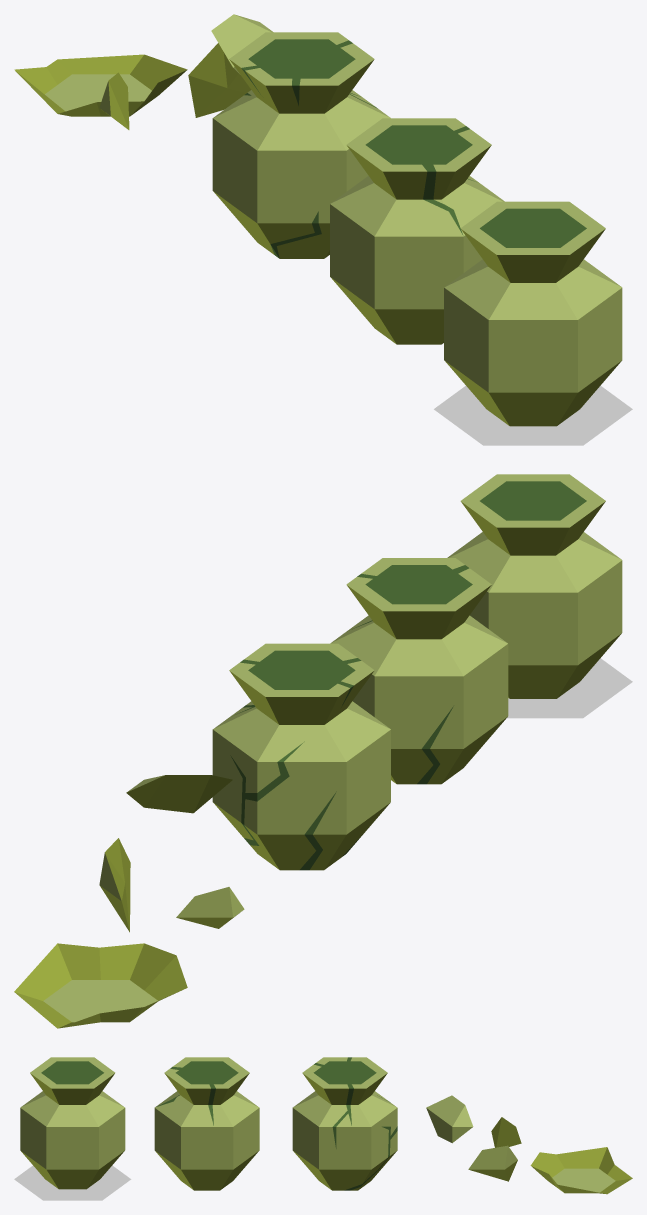
Rendered from pot.fbx.
3 renders of one model, top to bottom at view 1: azimuth 30°, elevation 25°; view 2: azimuth 150°, elevation 25°; view 3: azimuth 270°, elevation 25°, orthographic. The views are drawn at different scales.
Parts seen in each view (by area): view 1: Mesh_Pot01, Mesh_Pot01_Damaged02, Mesh_Pot01_Damaged01, Mesh_Pot01_Damaged03, Mesh_RoundShadow, Mesh_Pot01_DamagedPart03, Mesh_Pot01_DamagedPart02, Mesh_Pot01_DamagedPart01; view 2: Mesh_Pot01_Damaged02, Mesh_Pot01_Damaged01, Mesh_Pot01, Mesh_Pot01_Damaged03, Mesh_RoundShadow, Mesh_Pot01_DamagedPart02, Mesh_Pot01_DamagedPart03, Mesh_Pot01_DamagedPart01; view 3: Mesh_Pot01_Damaged01, Mesh_Pot01_Damaged02, Mesh_Pot01, Mesh_Pot01_Damaged03, Mesh_RoundShadow, Mesh_Pot01_DamagedPart02, Mesh_Pot01_DamagedPart03, Mesh_Pot01_DamagedPart01.
Boxes of the visible parts, x1=… form: Mesh_Pot01: x1=444, y1=201, x2=622, y2=426; Mesh_Pot01_Damaged02: x1=212, y1=32, x2=390, y2=258; Mesh_Pot01_Damaged01: x1=330, y1=118, x2=504, y2=344; Mesh_Pot01_Damaged03: x1=14, y1=54, x2=187, y2=116; Mesh_RoundShadow: x1=434, y1=385, x2=632, y2=445; Mesh_Pot01_DamagedPart03: x1=188, y1=43, x2=251, y2=117; Mesh_Pot01_DamagedPart02: x1=211, y1=14, x2=273, y2=74; Mesh_Pot01_DamagedPart01: x1=99, y1=72, x2=129, y2=129; Mesh_Pot01_Damaged02: x1=212, y1=643, x2=390, y2=870; Mesh_Pot01_Damaged01: x1=330, y1=558, x2=508, y2=784; Mesh_Pot01: x1=447, y1=474, x2=622, y2=698; Mesh_Pot01_Damaged03: x1=14, y1=943, x2=187, y2=1028; Mesh_RoundShadow: x1=507, y1=658, x2=632, y2=718; Mesh_Pot01_DamagedPart02: x1=126, y1=775, x2=232, y2=813; Mesh_Pot01_DamagedPart03: x1=99, y1=838, x2=130, y2=932; Mesh_Pot01_DamagedPart01: x1=176, y1=887, x2=244, y2=928; Mesh_Pot01_Damaged01: x1=154, y1=1057, x2=259, y2=1190; Mesh_Pot01_Damaged02: x1=292, y1=1057, x2=397, y2=1190; Mesh_Pot01: x1=20, y1=1057, x2=125, y2=1189; Mesh_Pot01_Damaged03: x1=530, y1=1147, x2=632, y2=1194; Mesh_RoundShadow: x1=14, y1=1165, x2=131, y2=1200; Mesh_Pot01_DamagedPart02: x1=426, y1=1095, x2=473, y2=1143; Mesh_Pot01_DamagedPart03: x1=468, y1=1145, x2=517, y2=1181; Mesh_Pot01_DamagedPart01: x1=491, y1=1117, x2=521, y2=1147.
Size of the model in its own units: 1.31 by 7.96 by 1.53.
